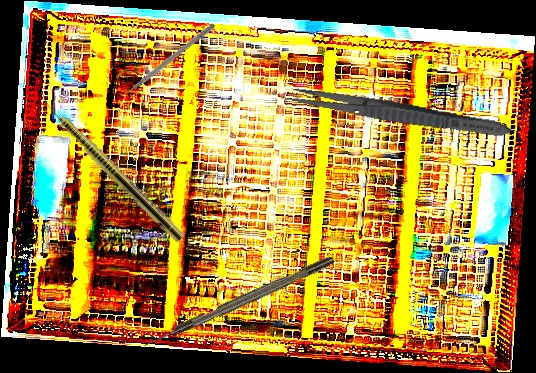Dressing Forceps: (278, 82, 515, 143)
Handpiece: (33, 89, 187, 244)
Hook Surgical: (140, 254, 337, 351)
Pusher: (113, 21, 217, 104)
